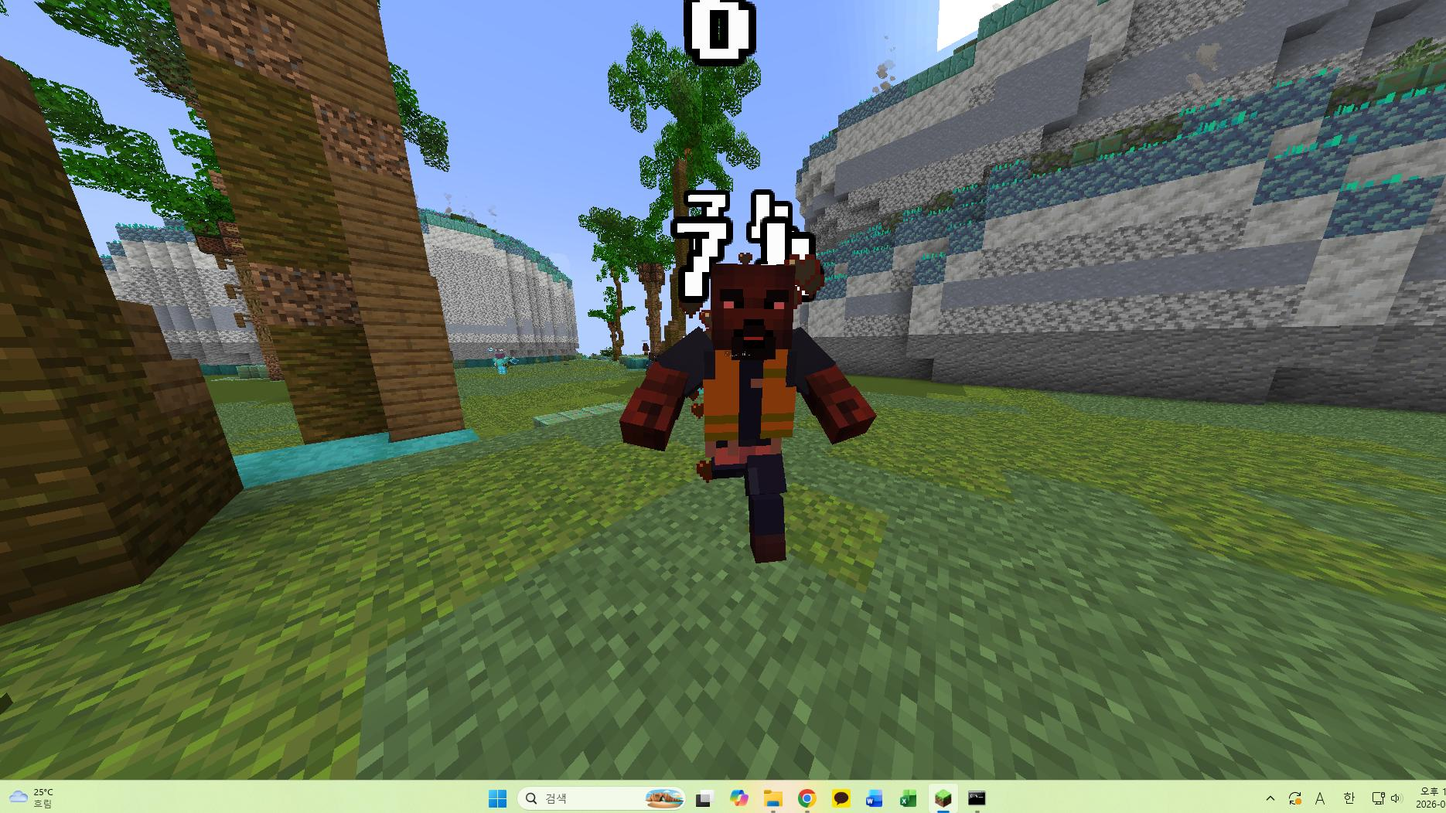Guardian: (620, 254, 875, 563)
